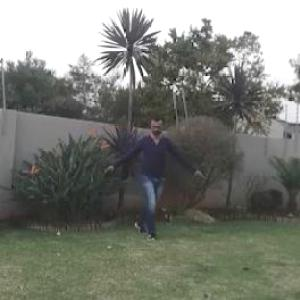land: (93, 106, 202, 244)
